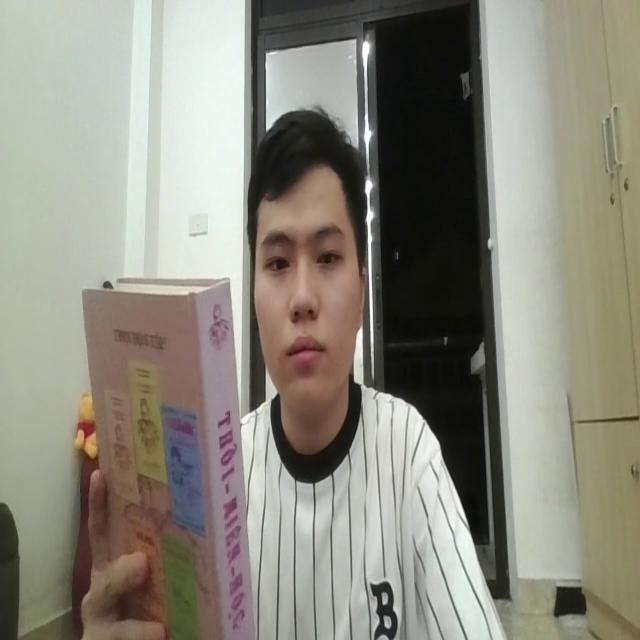book: (77, 261, 256, 640)
student: (242, 102, 508, 640)
